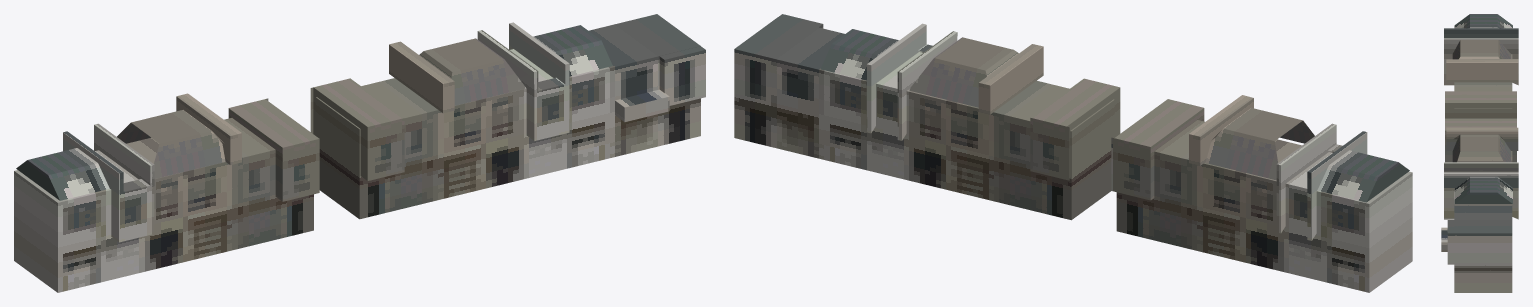
The model's file is lodxbld4_sfw71.obj.
The picture shows the model from 3 angles, left to right: view 1: azimuth 30°, elevation 25°; view 2: azimuth 150°, elevation 25°; view 3: azimuth 270°, elevation 25°; orthographic projection. The views are drawn at different scales.
Parts seen in each view (by area): view 1: LODxbld4_sfw71; view 2: LODxbld4_sfw71; view 3: LODxbld4_sfw71.
Boxes of the visible parts, bbox=[...] form: LODxbld4_sfw71: bbox=[14, 14, 705, 292]; LODxbld4_sfw71: bbox=[734, 14, 1412, 292]; LODxbld4_sfw71: bbox=[1441, 14, 1518, 292].
Size of the model in its own units: 52.84 by 9.48 by 8.29.
1 material, 1 textured.
